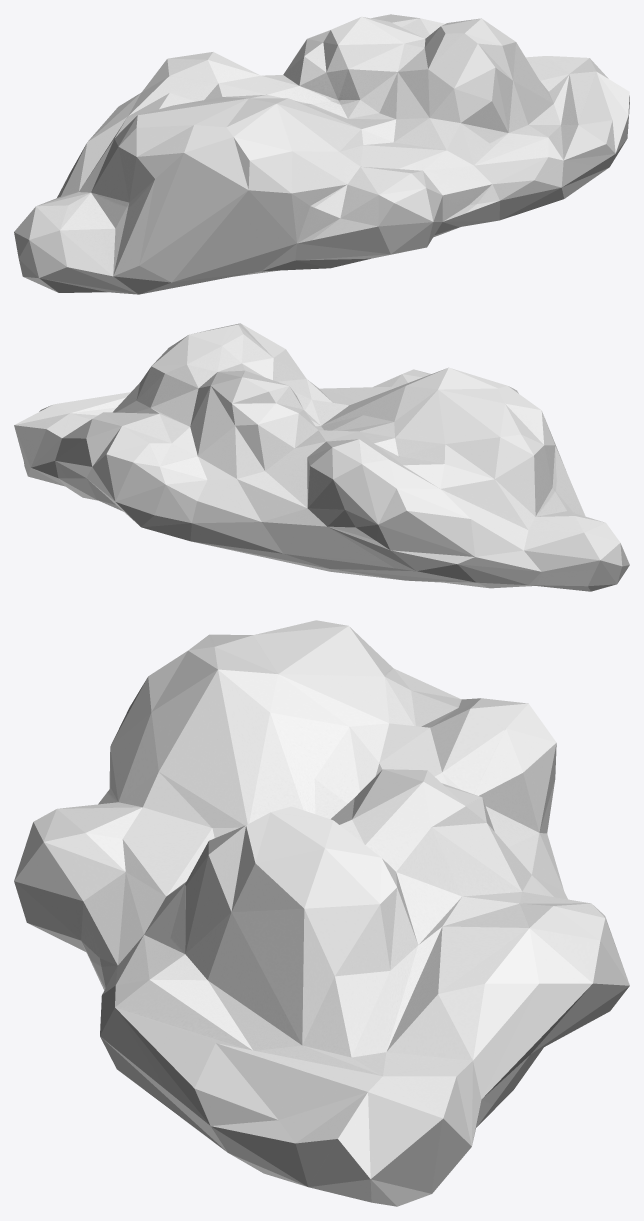
File: Cloud_3.glb
3 renders of one model, top to bottom at view 1: azimuth 30°, elevation 25°; view 2: azimuth 150°, elevation 25°; view 3: azimuth 270°, elevation 25°, orthographic. The views are drawn at different scales.
Visible parts, largest first — view 1: SM_Env_Cloud_03; view 2: SM_Env_Cloud_03; view 3: SM_Env_Cloud_03.
Part boxes in pixels (x1=…): SM_Env_Cloud_03: x1=14, y1=14, x2=629, y2=294; SM_Env_Cloud_03: x1=14, y1=323, x2=629, y2=591; SM_Env_Cloud_03: x1=14, y1=620, x2=629, y2=1206.
Size of the model in its own units: 7.03 by 1.98 by 3.89.
1 material, 1 textured.
